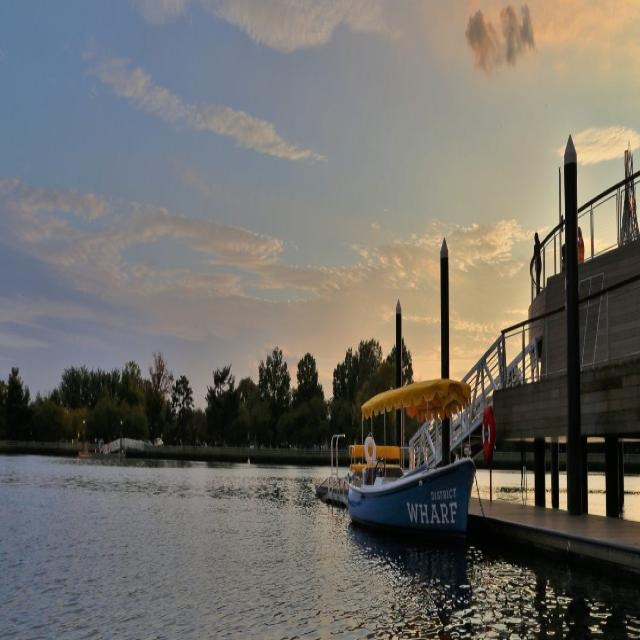houseboat: (351, 366, 476, 543)
